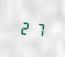seven: (32, 20, 44, 38)
two: (19, 18, 31, 36)
